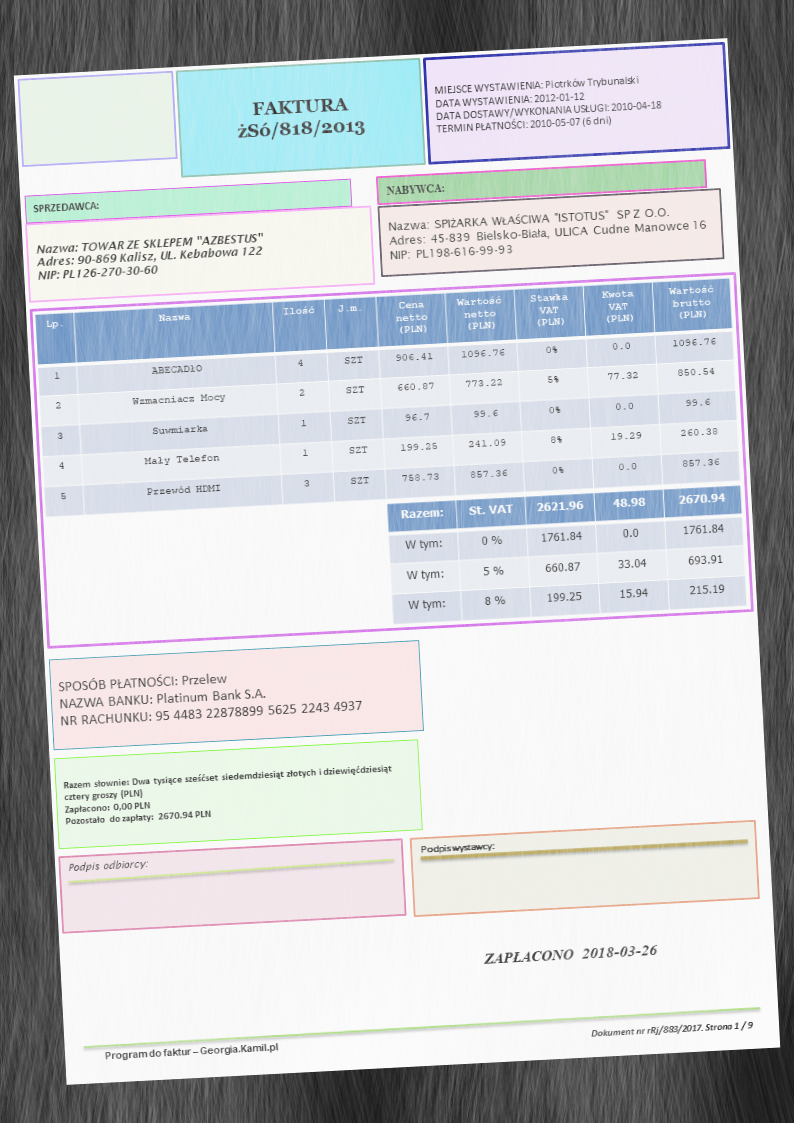Table: (33, 277, 742, 518), (385, 484, 747, 624)
TextBox: (61, 762, 396, 827), (56, 660, 365, 730), (385, 203, 709, 263), (431, 70, 664, 137), (33, 231, 265, 283), (232, 93, 368, 144), (480, 940, 660, 968), (103, 1039, 280, 1063), (589, 1018, 755, 1042), (65, 856, 151, 877), (418, 840, 495, 857), (29, 198, 101, 216), (384, 181, 446, 199)
